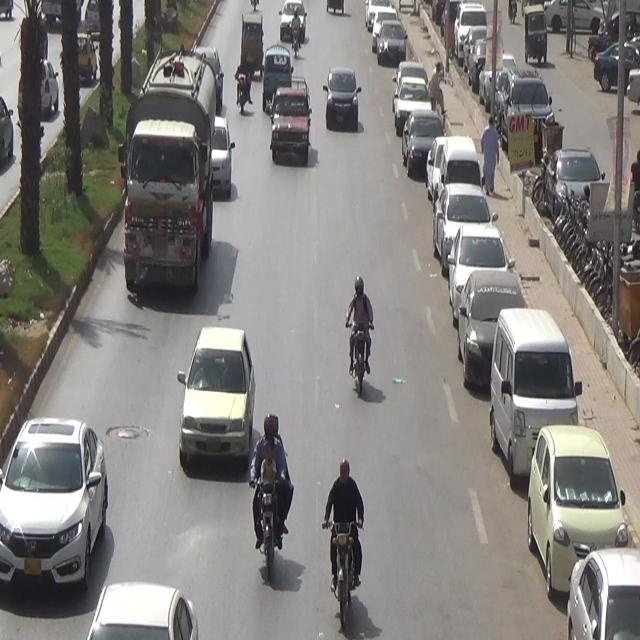car: (0, 397, 105, 611), (176, 319, 262, 486), (271, 82, 310, 175), (324, 73, 366, 140), (214, 114, 239, 192)
motorbike: (322, 449, 379, 633), (255, 404, 296, 569), (348, 270, 371, 406), (229, 63, 257, 123), (284, 0, 303, 59)
truck: (100, 44, 226, 296)
